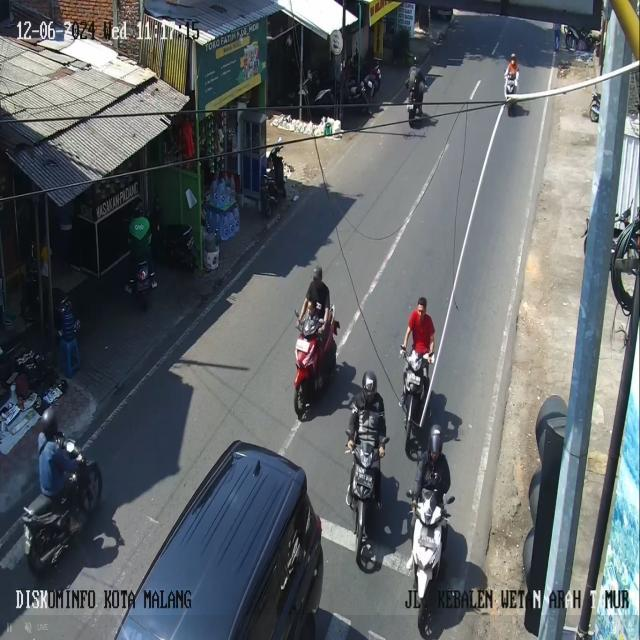Helmet: (40, 407, 57, 438), (362, 370, 376, 400), (429, 427, 442, 454), (313, 266, 322, 280), (510, 53, 516, 60)
Number Plate: (356, 473, 373, 488), (296, 338, 309, 352), (407, 372, 419, 383), (407, 104, 413, 111)
Rearview Mirror: (446, 496, 454, 503)
